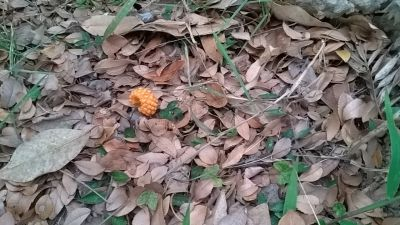eggs: (129, 87, 161, 115)
